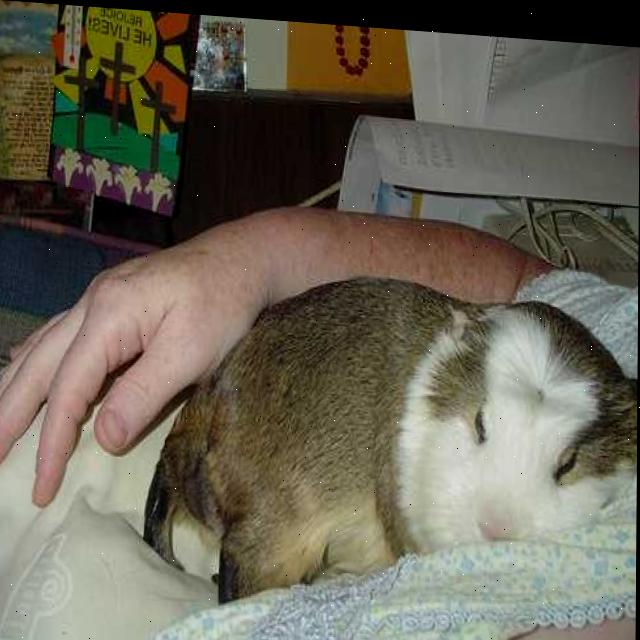guinea pig: (141, 257, 638, 623)
